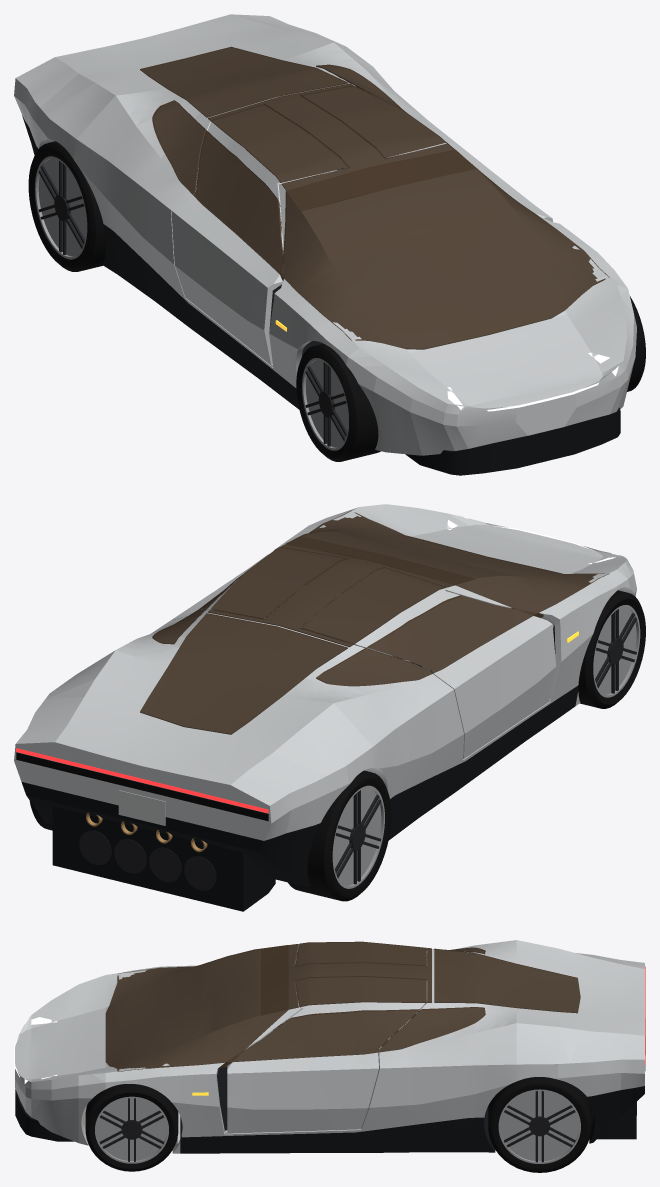
The model's file is roadster.glb.
3 renders of one model, top to bottom at view 1: azimuth 30°, elevation 25°; view 2: azimuth 150°, elevation 25°; view 3: azimuth 270°, elevation 25°, orthographic. The views are drawn at different scales.
Visible parts, largest first — view 1: body, glass_ws, door_glass_r, door_r.001, glass_roof, glass_rear, splitter, sill, door_glass_l, glass_side, tyre_fr, tyre_rr (+6 smaller); view 2: body, glass_rear, door_glass_r, door_r.001, glass_ws, rear_lower, black_rear_corner, glass_roof, sill, door_glass_l, tyre_rr, fans (+9 smaller); view 3: body, glass_ws, door_l.001, door_glass_l, sill, glass_rear, glass_roof, rim_rl, tyre_rl, rim_fl, tyre_fl, door_glass_r (+6 smaller).
Boxes of the visible parts, x1,y1,x2,y2 form: body: [14, 14, 636, 455]; glass_ws: [280, 149, 609, 349]; door_glass_r: [193, 104, 347, 273]; door_r.001: [171, 122, 335, 366]; glass_roof: [208, 83, 469, 210]; glass_rear: [140, 46, 347, 117]; splitter: [405, 407, 620, 475]; sill: [102, 224, 323, 409]; door_glass_l: [301, 85, 454, 157]; glass_side: [152, 64, 406, 194]; tyre_fr: [296, 343, 380, 461]; tyre_rr: [28, 141, 105, 271]; body: [14, 504, 636, 840]; glass_rear: [140, 613, 347, 734]; door_glass_r: [301, 567, 533, 673]; door_r.001: [354, 588, 556, 758]; glass_ws: [286, 510, 609, 617]; rear_lower: [52, 806, 275, 911]; black_rear_corner: [21, 782, 320, 886]; glass_roof: [208, 538, 474, 647]; sill: [353, 644, 578, 840]; door_glass_l: [199, 546, 347, 618]; tyre_rr: [288, 770, 391, 901]; fans: [79, 830, 216, 890]; body: [15, 940, 644, 1153]; glass_ws: [105, 945, 288, 1071]; door_l.001: [224, 1002, 425, 1133]; door_glass_l: [233, 976, 426, 1062]; sill: [180, 1067, 495, 1153]; glass_rear: [434, 948, 580, 1013]; glass_roof: [261, 944, 431, 1013]; rim_rl: [498, 1089, 580, 1163]; tyre_rl: [488, 1077, 591, 1172]; rim_fl: [95, 1096, 168, 1163]; tyre_fl: [85, 1084, 178, 1171]; door_glass_r: [295, 941, 426, 966].
Bounding box in the file's own units: 1.98 × 1.19 × 4.59.
